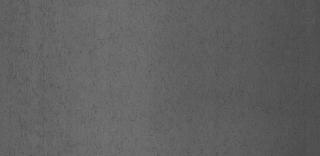silk spot: (26, 22, 166, 125)
